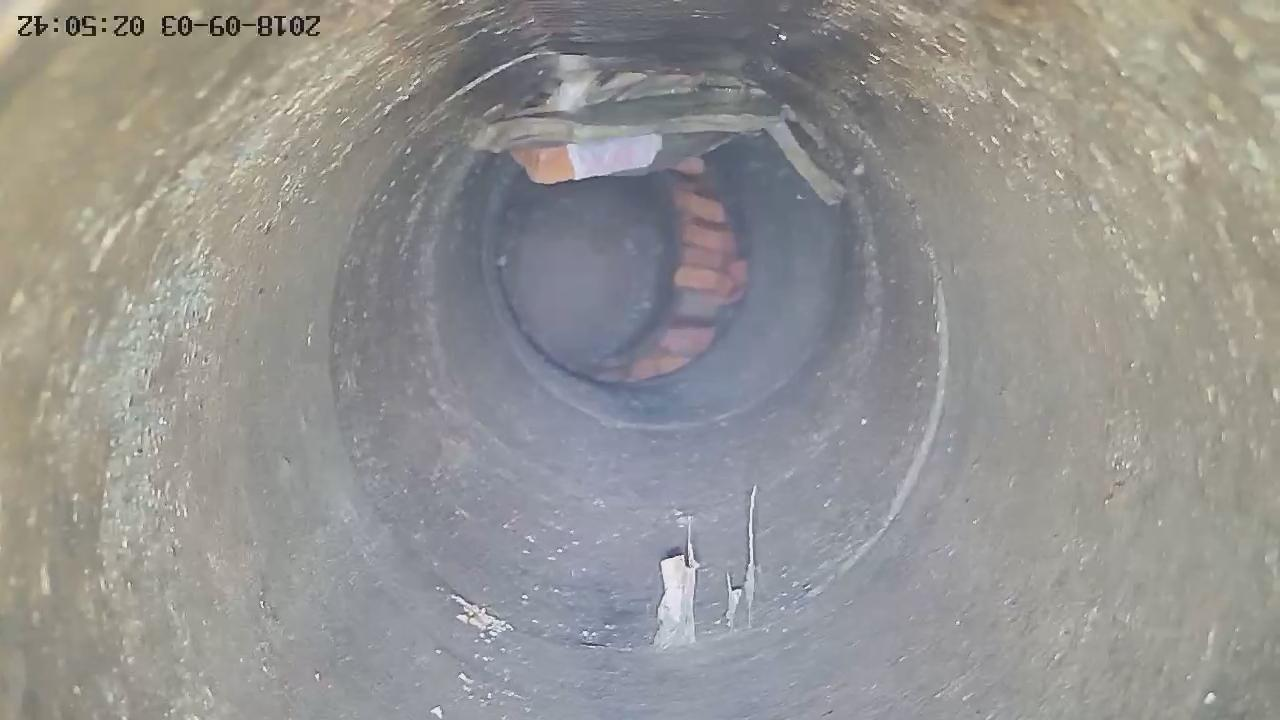CQBG: (608, 160, 749, 381)
JKCL: (654, 518, 701, 650), (723, 488, 759, 631)
ZAW: (471, 53, 844, 204)
